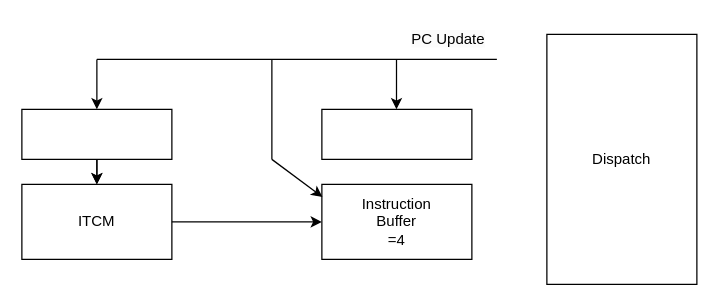
Some shapes in this 719 by 306 pixel diagram are drawn without their labels. The shapes that lost their labels are listed below. From the top down, each one's box as (x1, y1, x2, y2) in pixels, then its label:
(21, 108, 172, 159): Fetch PC
(321, 108, 472, 159): PC
